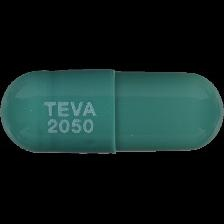0093-2050: (0, 0, 224, 224)
